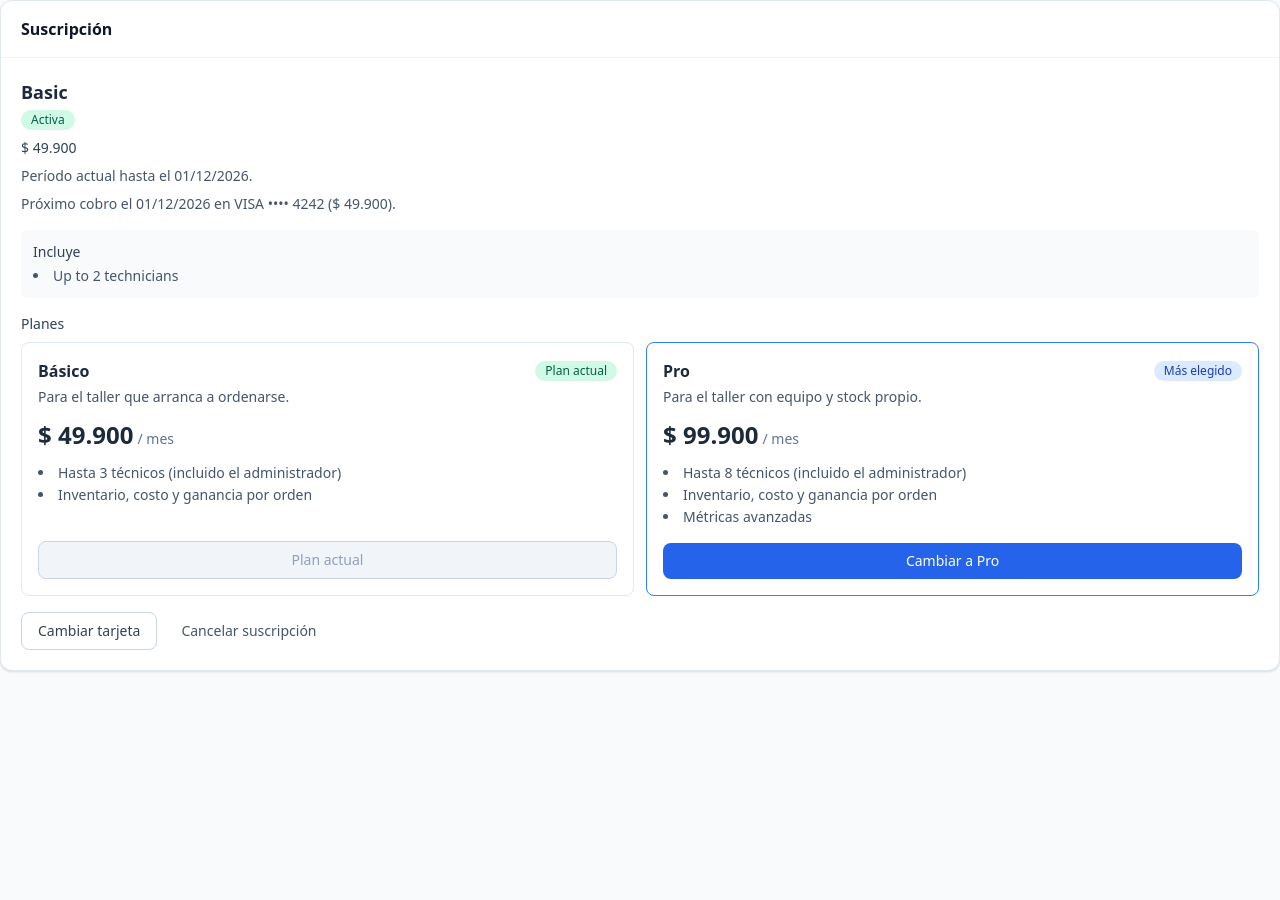
Test case: SuscripcionSection › shows the cancel confirmation in Spanish
This screenshot has width=1280, height=900.
Step 1. Click the button "Cancelar suscripción" → coordinates (249, 631), box [165,613,332,649]
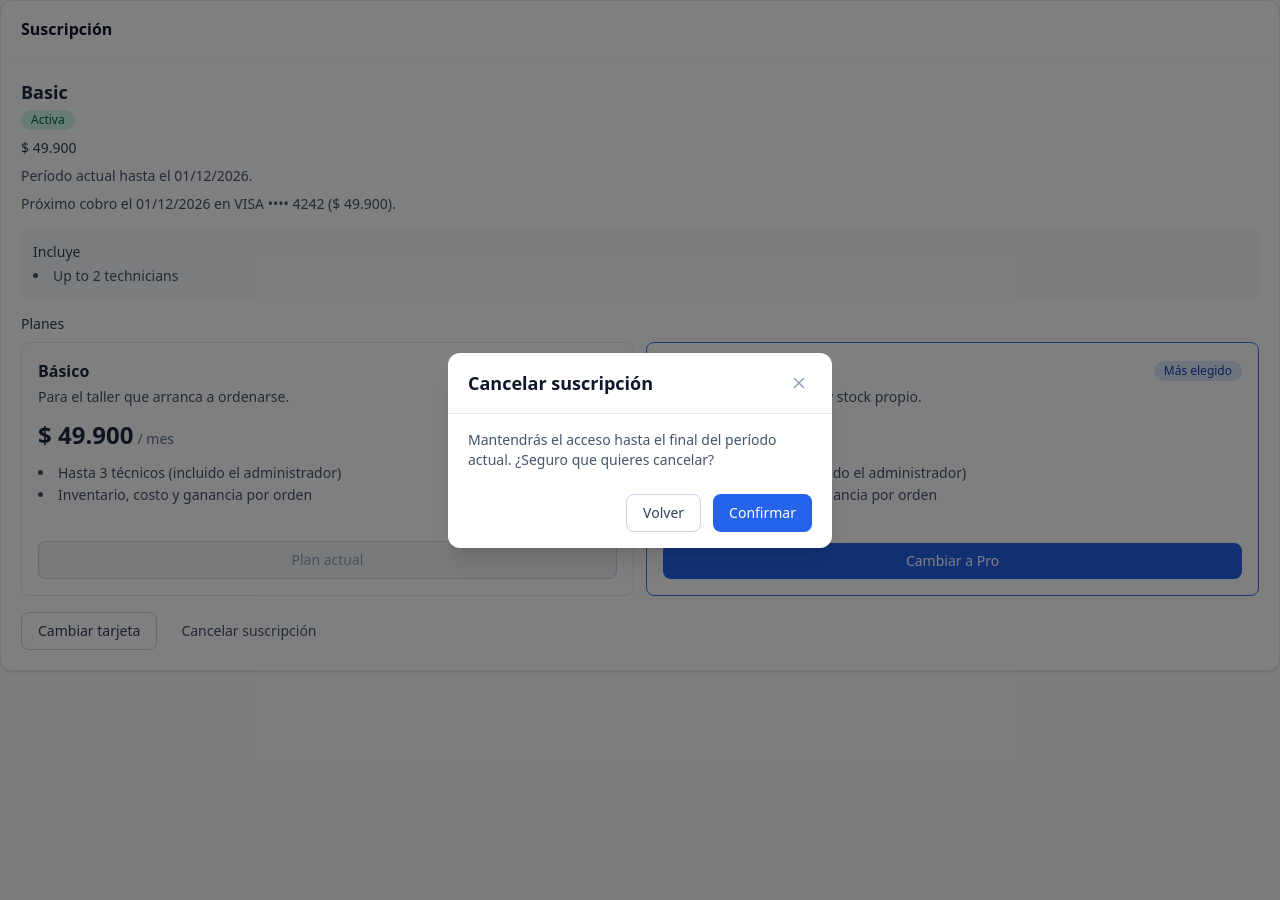
Result: the text "Mantendrás el acceso hasta el final del período actual" is shown at [468,430,777,468]
